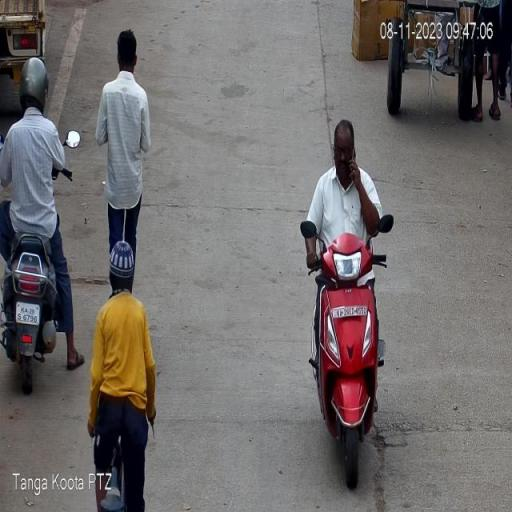using mobile: (343, 138, 361, 188)
